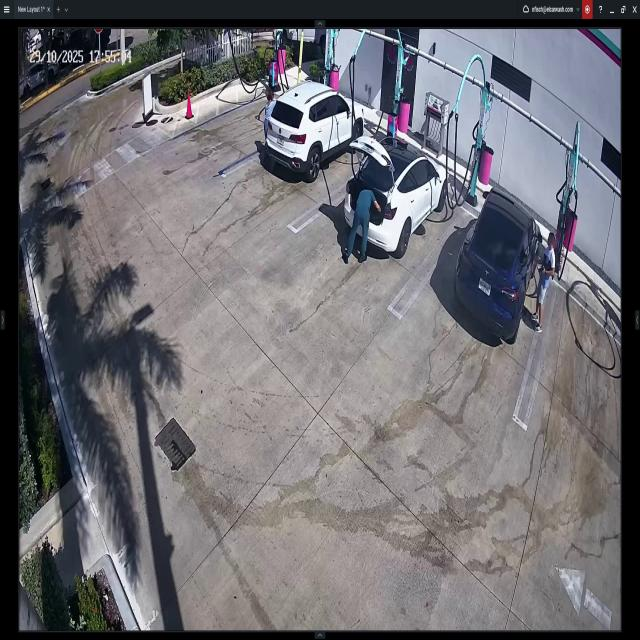Car: (448, 188, 542, 346), (342, 134, 452, 252), (266, 75, 364, 168), (273, 28, 328, 59)
